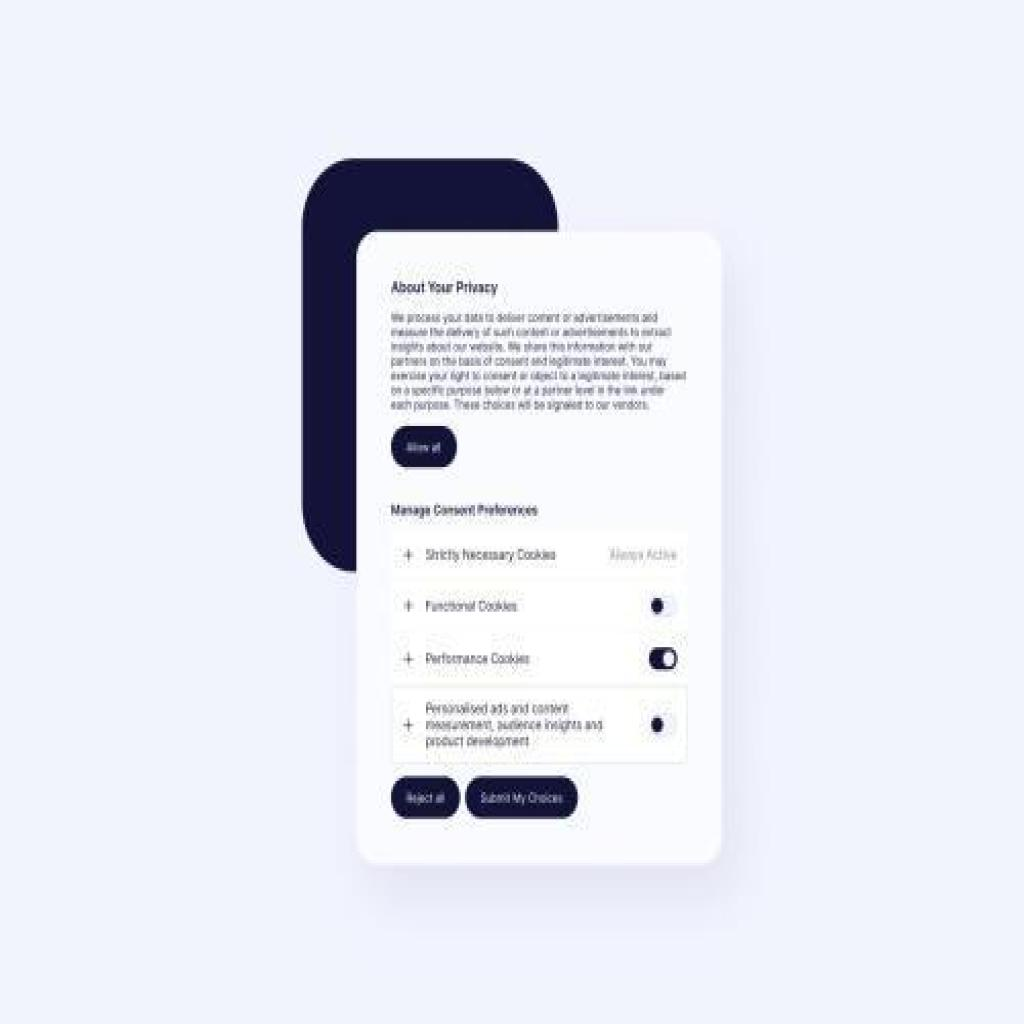button: (465, 773, 577, 822), (387, 775, 461, 822), (389, 423, 459, 470)
icon: (399, 647, 418, 672), (399, 598, 420, 614), (401, 544, 416, 566), (403, 712, 416, 734)
label: (424, 696, 604, 756), (381, 270, 502, 300), (424, 592, 526, 626), (422, 543, 557, 568), (424, 642, 534, 669)
switch: (641, 644, 682, 672), (647, 710, 682, 740), (649, 592, 678, 620)
